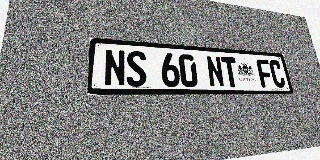0: (178, 54, 198, 87)
6: (160, 53, 181, 87)
C: (268, 60, 286, 88)
F: (256, 59, 274, 88)
N: (104, 49, 126, 87), (205, 56, 225, 87)
S: (126, 50, 147, 87)
T: (221, 57, 240, 87)
